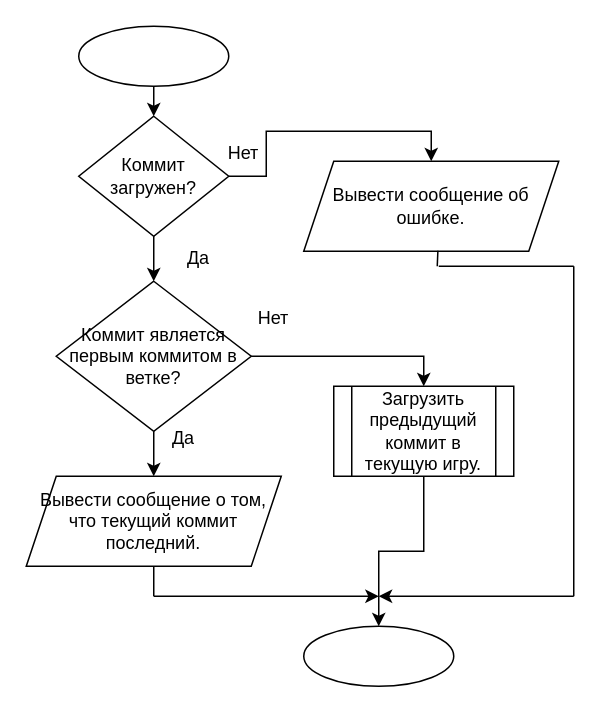
Image size: 612x713. Some labels were removed from this diagram. The shapes that lost their labels are listed below. From the top down, each one's centre as x and y in pixels, then its label:
At (153,55): "Начало".
At (378,655): "Конец".
